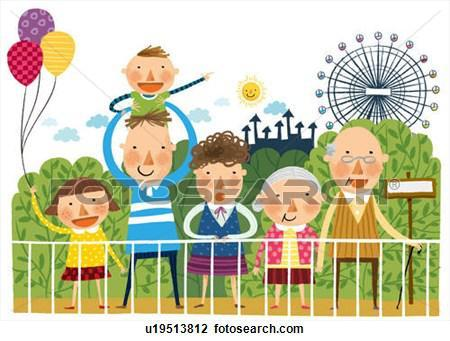person: (316, 123, 406, 310), (184, 126, 254, 309), (119, 114, 182, 312), (31, 178, 121, 310), (249, 161, 321, 311), (114, 37, 182, 114)
